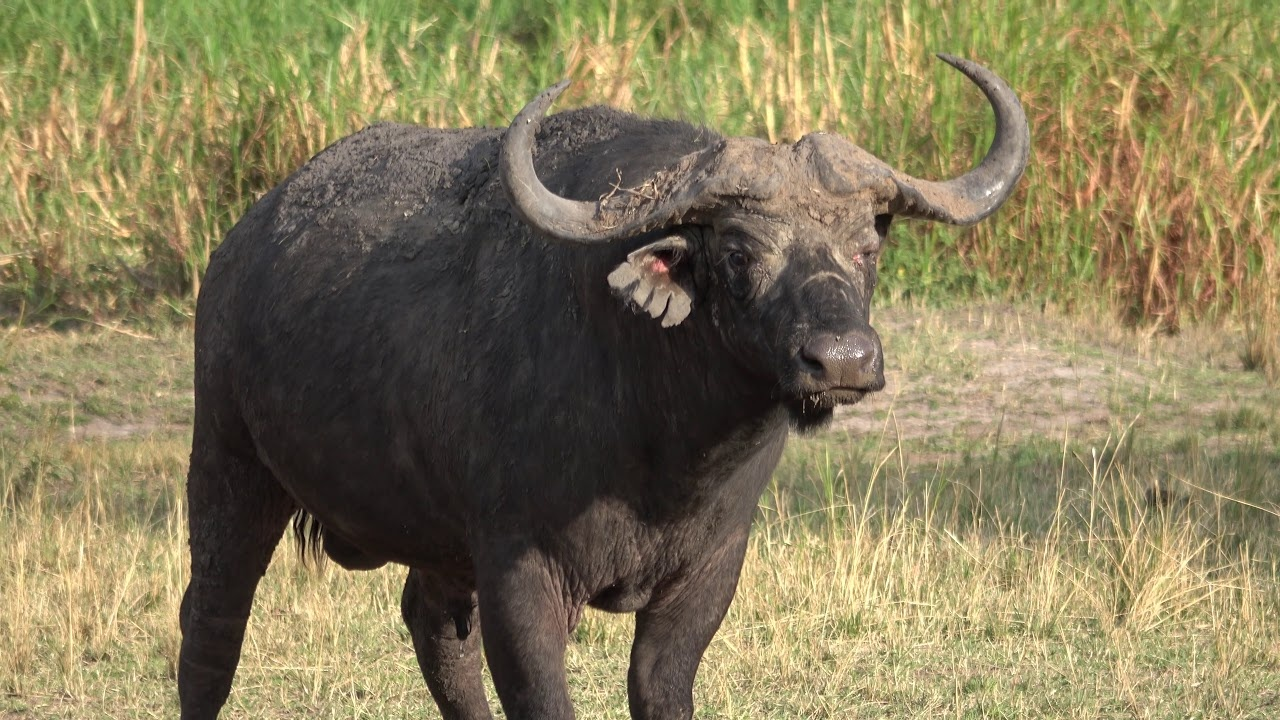buffalo: (168, 47, 1040, 720)
